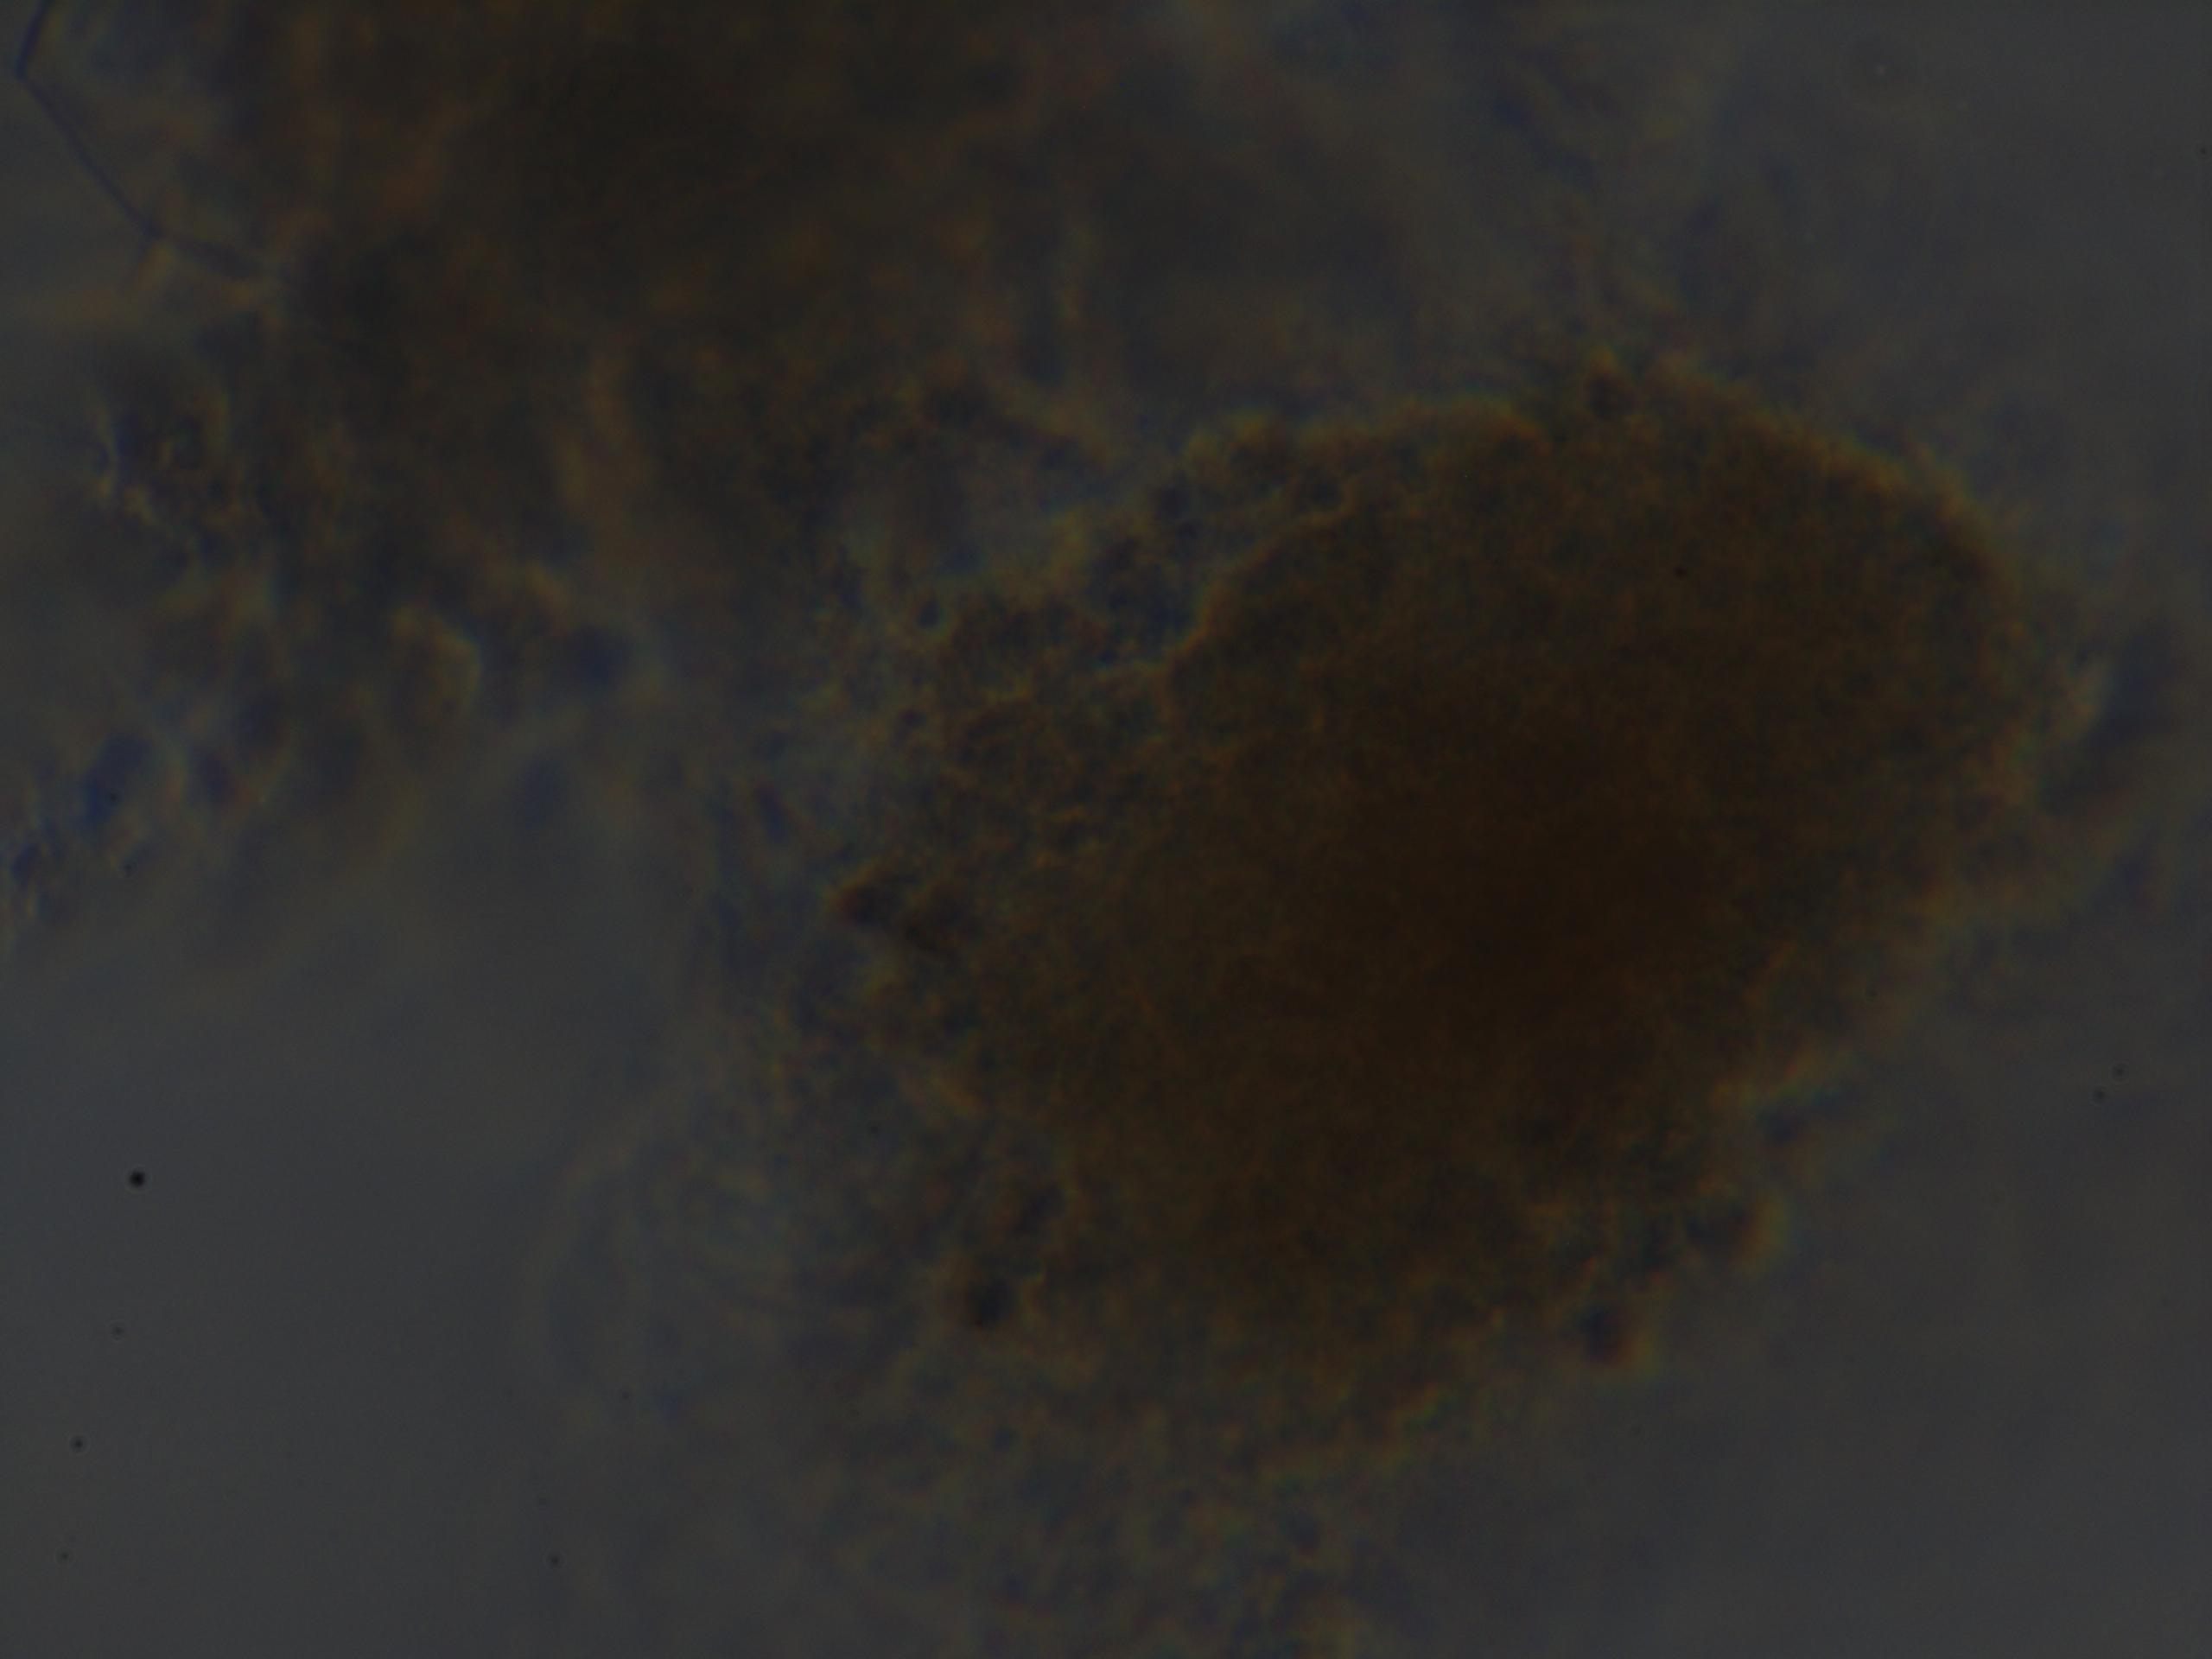spherical_floc: (786, 362, 2055, 1471)
